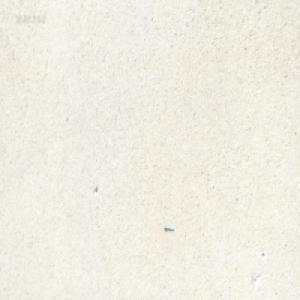Nail: (164, 225, 174, 232)
